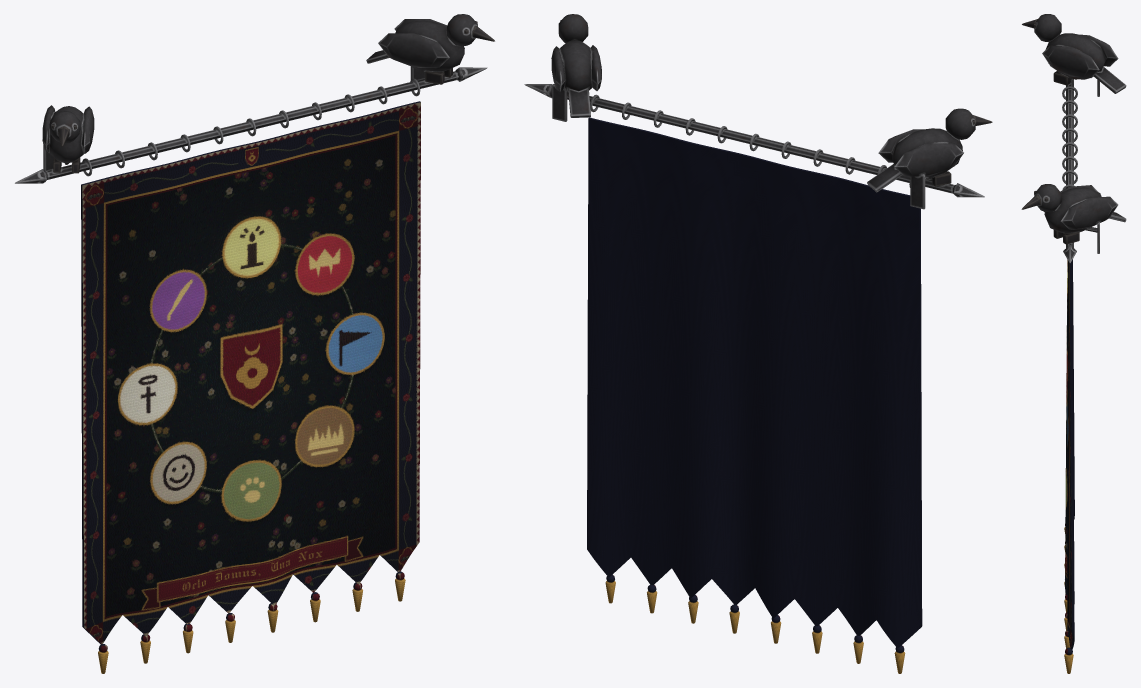
File: TapestryCliques.fbx
The picture shows the model from 3 angles, left to right: view 1: azimuth 30°, elevation 25°; view 2: azimuth 150°, elevation 25°; view 3: azimuth 270°, elevation 25°; orthographic projection. The views are drawn at different scales.
Parts seen in each view (by area): view 1: TapestryCliques_Weave, TapestryCliques_Main; view 2: TapestryCliques_Weave, TapestryCliques_Main; view 3: TapestryCliques_Main, TapestryCliques_Weave.
Part boxes in pixels (x1,y1,x2,y2): TapestryCliques_Weave: [81, 101, 420, 673]; TapestryCliques_Main: [15, 14, 494, 183]; TapestryCliques_Weave: [587, 117, 922, 673]; TapestryCliques_Main: [524, 14, 992, 209]; TapestryCliques_Main: [1021, 14, 1126, 263]; TapestryCliques_Weave: [1064, 259, 1074, 673].
Bounding box in the file's own units: 837 × 984 × 184.
